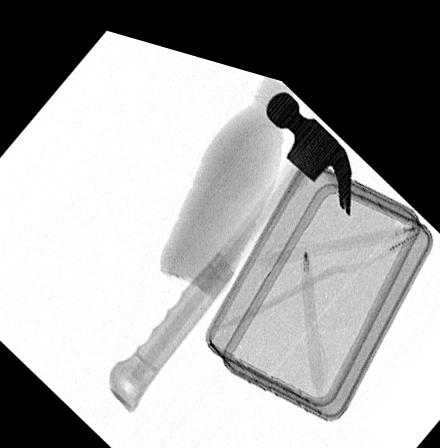Hammer: (106, 72, 353, 407)
